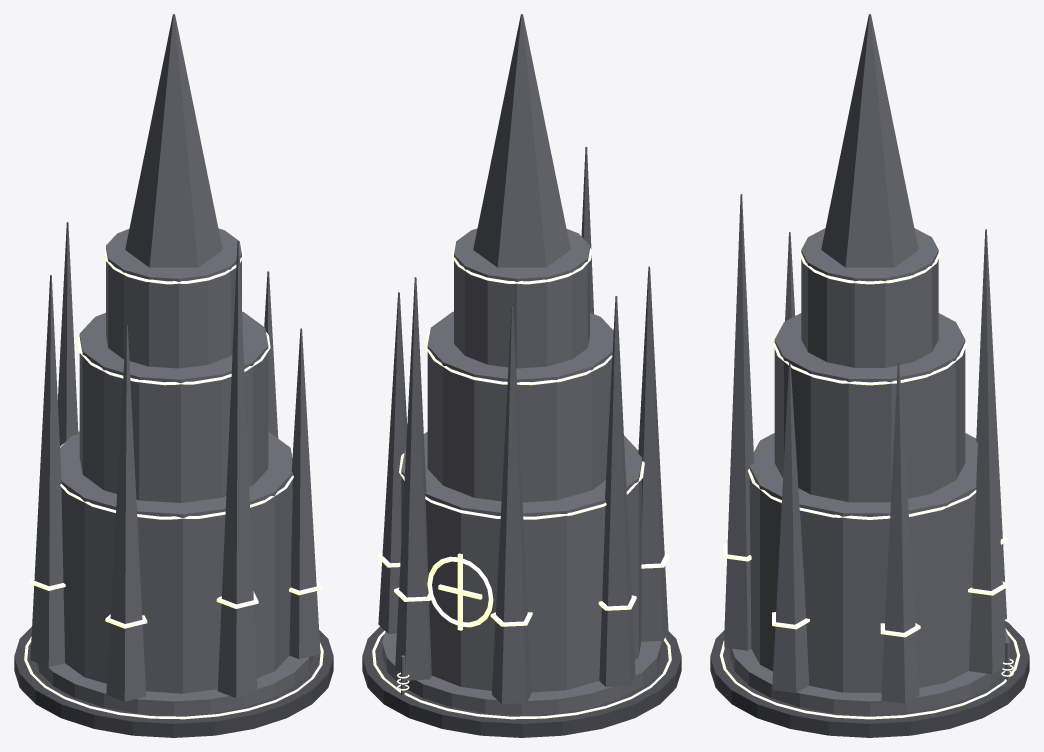
File: zone_high_6_t3.glb
The picture shows the model from 3 angles, left to right: view 1: azimuth 30°, elevation 25°; view 2: azimuth 150°, elevation 25°; view 3: azimuth 270°, elevation 25°; orthographic projection.
Visible parts, largest first — view 1: zone_high_6_t3; view 2: zone_high_6_t3; view 3: zone_high_6_t3.
Part boxes in pixels (<box>): zone_high_6_t3: <box>14,14,333,737</box>; zone_high_6_t3: <box>362,14,681,737</box>; zone_high_6_t3: <box>710,14,1029,737</box>.
Bounding box in the file's own units: 28.8 × 65.24 × 28.8.
